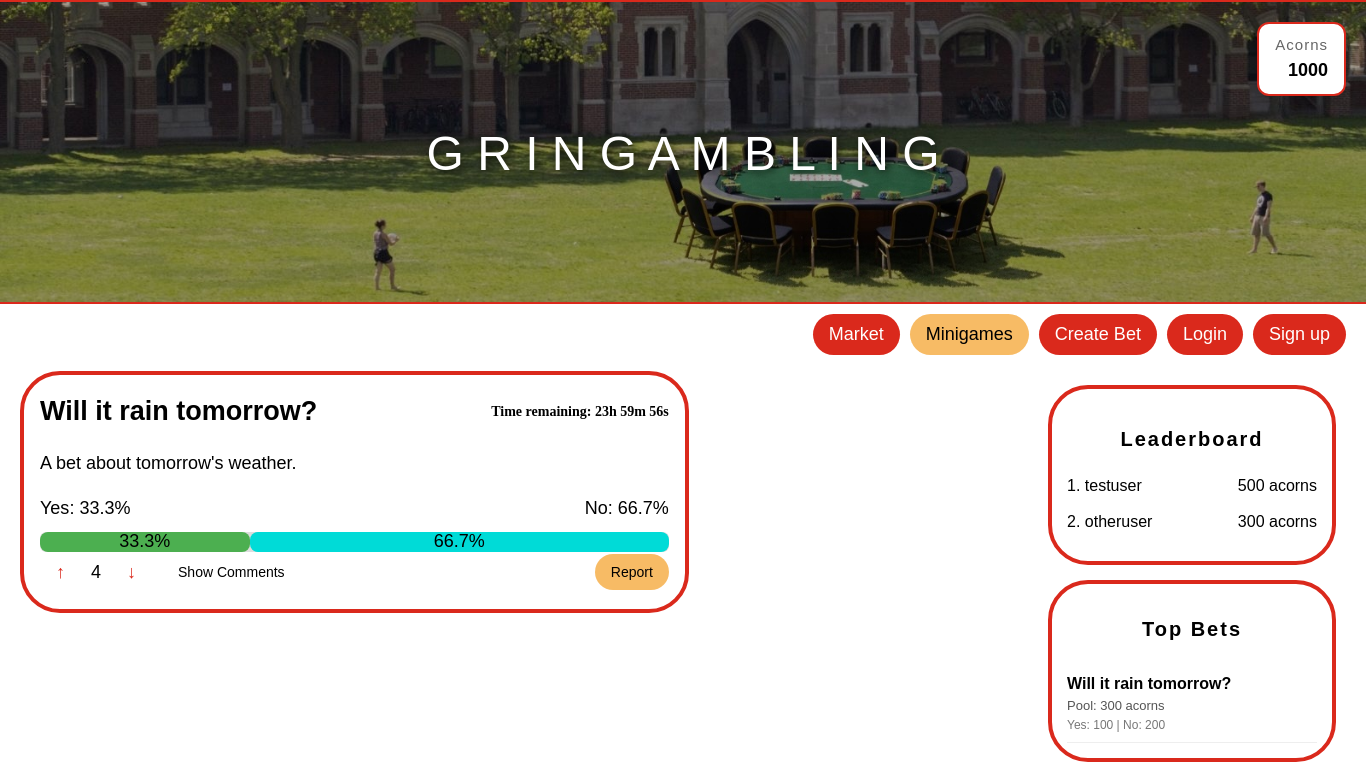
Scenario: register modal › closes when backdrop is clicked
The image size is (1366, 768).
Click the button "Sign up" at (1299, 334), box [1253,314,1346,355]
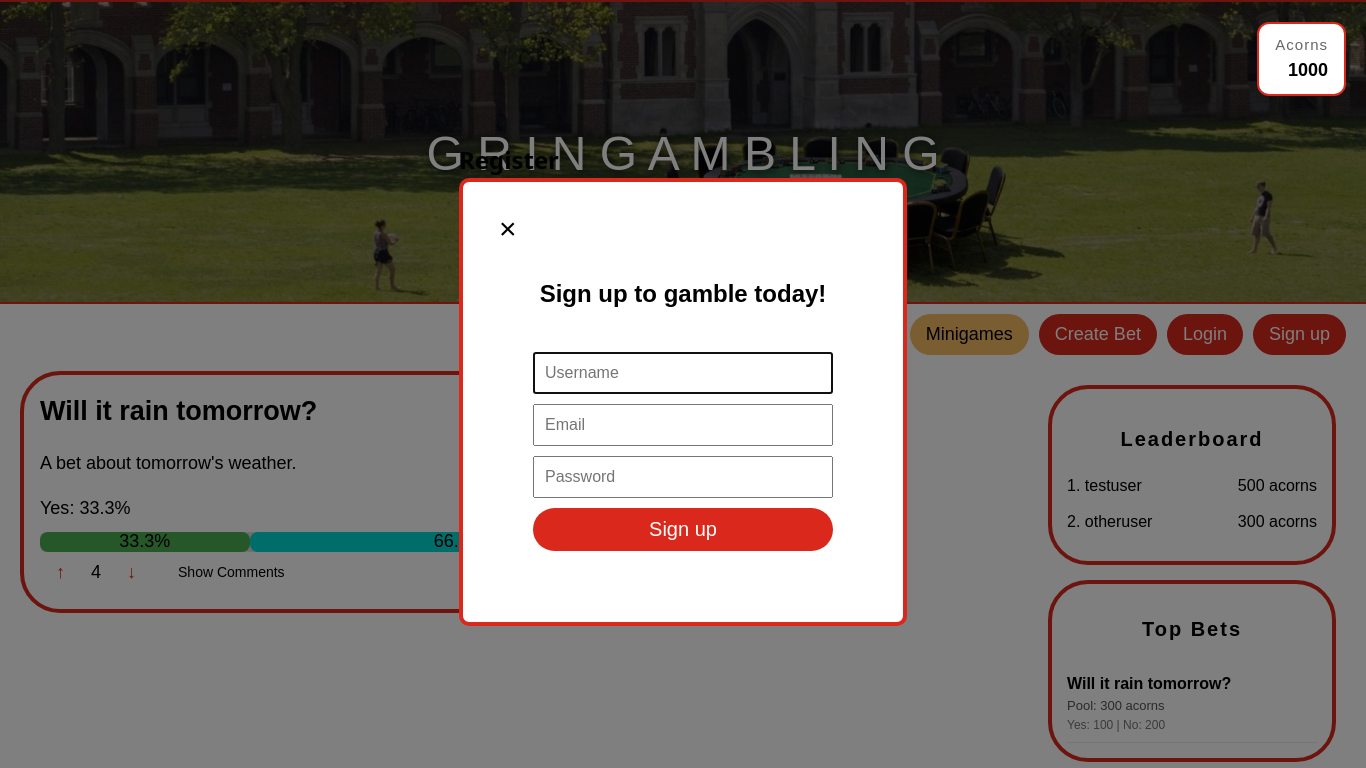
Click the element showing "Register × Sign up to gamble today! Sign up" at (82, 384), box [0,0,1365,767]
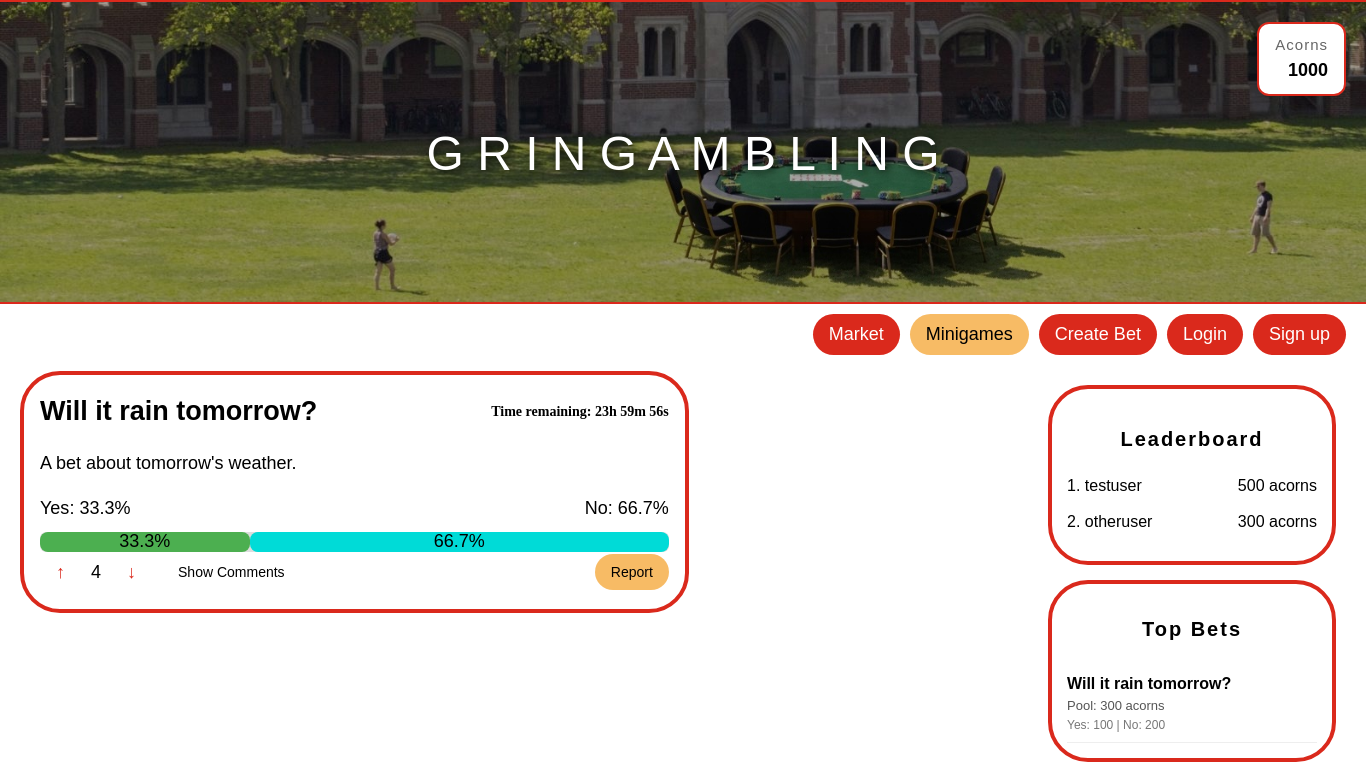
Check: the heading "Register" is gone
